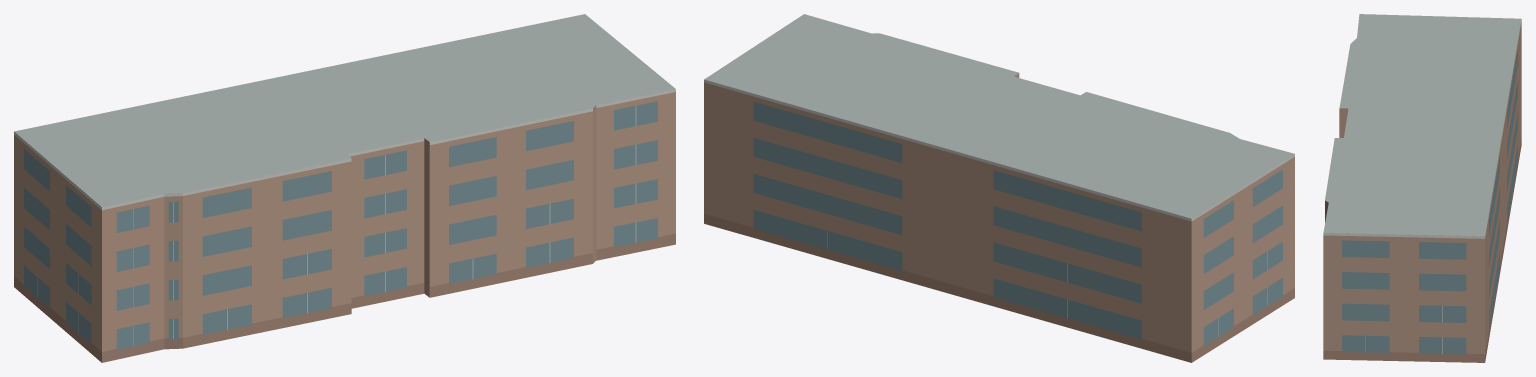
File: survey-upis-32829743.glb
3 views of the same model, side by side, from view 1: azimuth 30°, elevation 25°; view 2: azimuth 150°, elevation 25°; view 3: azimuth 270°, elevation 25° (orthographic). The views are drawn at different scales.
Parts seen in each view (by area): view 1: survey-upis-32829743.tmp; view 2: survey-upis-32829743.tmp; view 3: survey-upis-32829743.tmp.
Boxes of the visible parts, x1,y1,x2,y2 form: survey-upis-32829743.tmp: (14, 14, 675, 362); survey-upis-32829743.tmp: (704, 14, 1294, 362); survey-upis-32829743.tmp: (1323, 14, 1521, 362).
Bounding box in the file's own units: 45.97 × 12.2 × 17.32.
